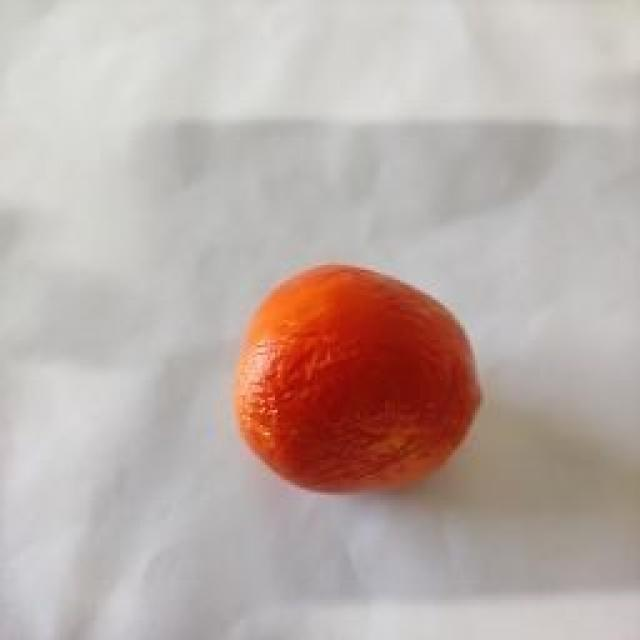overripe: (230, 259, 486, 498)
